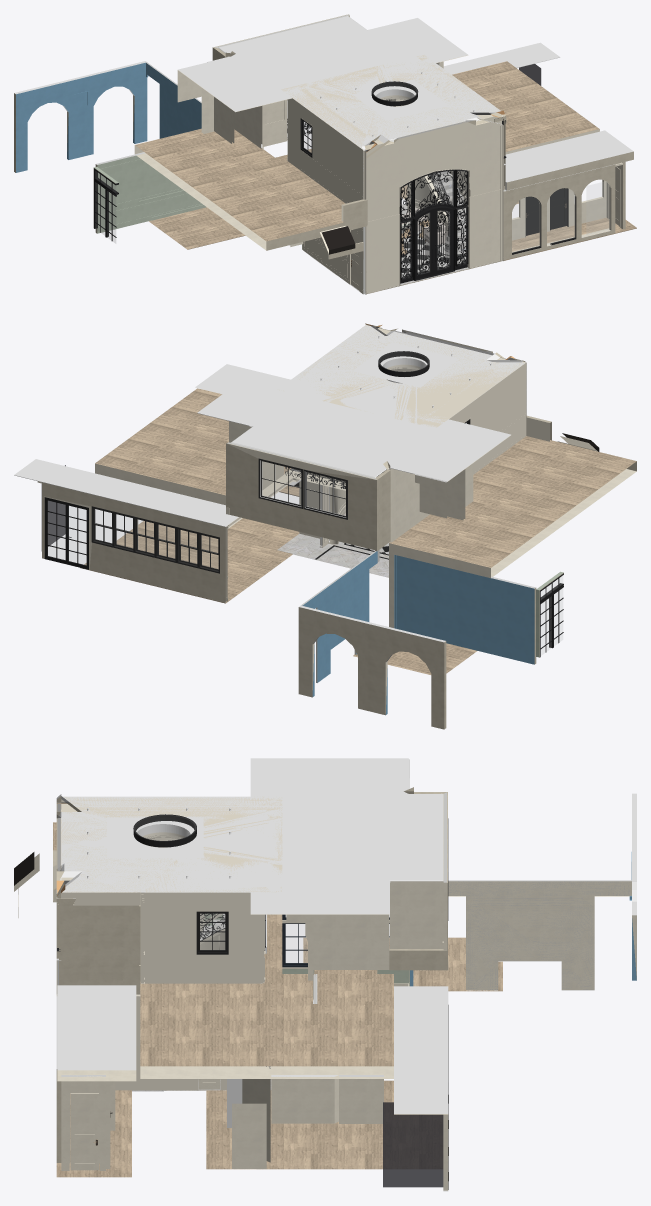
The model's file is entry-197035c854c5.glb.
3 views of the same model, one above another, from view 1: azimuth 30°, elevation 25°; view 2: azimuth 150°, elevation 25°; view 3: azimuth 270°, elevation 25° (orthographic). The views are drawn at different scales.
Parts seen in each view (by area): view 1: entry-look-2575515a05775d9e, entry-look-9d91b47435c6fb33, entry-9d91b47435c6fb33, entry-4edf3a9420c06709, entry-look-969b861f9850351e, entry-e8793759323e04f0, entry-9ca48b730e5de4b2, entry-look-b19b106fc304963c, entry-746250f96522f643, entry-look-dbd60ee5c3733ed6, entry-look-c9e78b9ec1bb39cd, entry-785988ccf932ddd5 (+36 smaller); view 2: entry-look-2575515a05775d9e, entry-look-9d91b47435c6fb33, entry-look-b19b106fc304963c, entry-9d91b47435c6fb33, entry-look-969b861f9850351e, entry-look-245f595ae2832e16, entry-look-3b0077416469e01b, entry-look-bfb9fa537cd11d1d, entry-e8793759323e04f0, entry-look-9a0e9ee9b2a451d7, entry-746250f96522f643, entry-look-3e6709f91b43c3bf (+19 smaller); view 3: entry-look-2575515a05775d9e, entry-look-9d91b47435c6fb33, entry-9d91b47435c6fb33, entry-look-3e6709f91b43c3bf, entry-look-3b0077416469e01b, entry-c51ecd664a3b22a3, entry-look-dbd60ee5c3733ed6, entry-e8793759323e04f0, entry-look-9a0e9ee9b2a451d7, entry-62353aa10fc57f23, entry-look-cbd4bf73d9724a66, entry-look-55ff1dfd7b659ec1 (+22 smaller).
Part boxes in pixels (bbox=[...]): entry-look-2575515a05775d9e: bbox=[134, 61, 599, 250]; entry-look-9d91b47435c6fb33: bbox=[178, 16, 468, 112]; entry-9d91b47435c6fb33: bbox=[282, 54, 500, 149]; entry-4edf3a9420c06709: bbox=[365, 120, 503, 221]; entry-look-969b861f9850351e: bbox=[14, 61, 147, 172]; entry-e8793759323e04f0: bbox=[281, 55, 499, 149]; entry-9ca48b730e5de4b2: bbox=[365, 189, 503, 293]; entry-look-b19b106fc304963c: bbox=[95, 152, 202, 233]; entry-746250f96522f643: bbox=[287, 98, 361, 203]; entry-look-dbd60ee5c3733ed6: bbox=[505, 130, 633, 190]; entry-look-c9e78b9ec1bb39cd: bbox=[503, 164, 615, 260]; entry-785988ccf932ddd5: bbox=[366, 118, 503, 220]; entry-look-2575515a05775d9e: bbox=[95, 388, 636, 578]; entry-look-9d91b47435c6fb33: bbox=[197, 371, 510, 481]; entry-look-b19b106fc304963c: bbox=[397, 555, 536, 664]; entry-9d91b47435c6fb33: bbox=[277, 325, 525, 428]; entry-look-969b861f9850351e: bbox=[298, 605, 446, 729]; entry-look-245f595ae2832e16: bbox=[226, 442, 376, 551]; entry-look-3b0077416469e01b: bbox=[80, 518, 476, 674]; entry-look-bfb9fa537cd11d1d: bbox=[42, 482, 227, 602]; entry-e8793759323e04f0: bbox=[279, 325, 525, 427]; entry-look-9a0e9ee9b2a451d7: bbox=[14, 459, 238, 526]; entry-746250f96522f643: bbox=[449, 364, 524, 474]; entry-look-3e6709f91b43c3bf: bbox=[302, 551, 377, 682]; entry-look-2575515a05775d9e: bbox=[53, 822, 393, 1078]; entry-look-9d91b47435c6fb33: bbox=[250, 758, 442, 914]; entry-9d91b47435c6fb33: bbox=[61, 796, 282, 892]; entry-look-3e6709f91b43c3bf: bbox=[448, 880, 631, 989]; entry-look-3b0077416469e01b: bbox=[206, 937, 502, 1169]; entry-c51ecd664a3b22a3: bbox=[145, 892, 264, 983]; entry-look-dbd60ee5c3733ed6: bbox=[57, 985, 136, 1081]; entry-e8793759323e04f0: bbox=[58, 794, 282, 892]; entry-look-9a0e9ee9b2a451d7: bbox=[394, 986, 448, 1114]; entry-62353aa10fc57f23: bbox=[71, 892, 140, 996]; entry-look-cbd4bf73d9724a66: bbox=[383, 1102, 443, 1187]; entry-look-55ff1dfd7b659ec1: bbox=[448, 880, 631, 990].
Bounding box in the file's own units: 21.07 × 7.02 × 18.
Materials: 68 (11 with a texture image).
